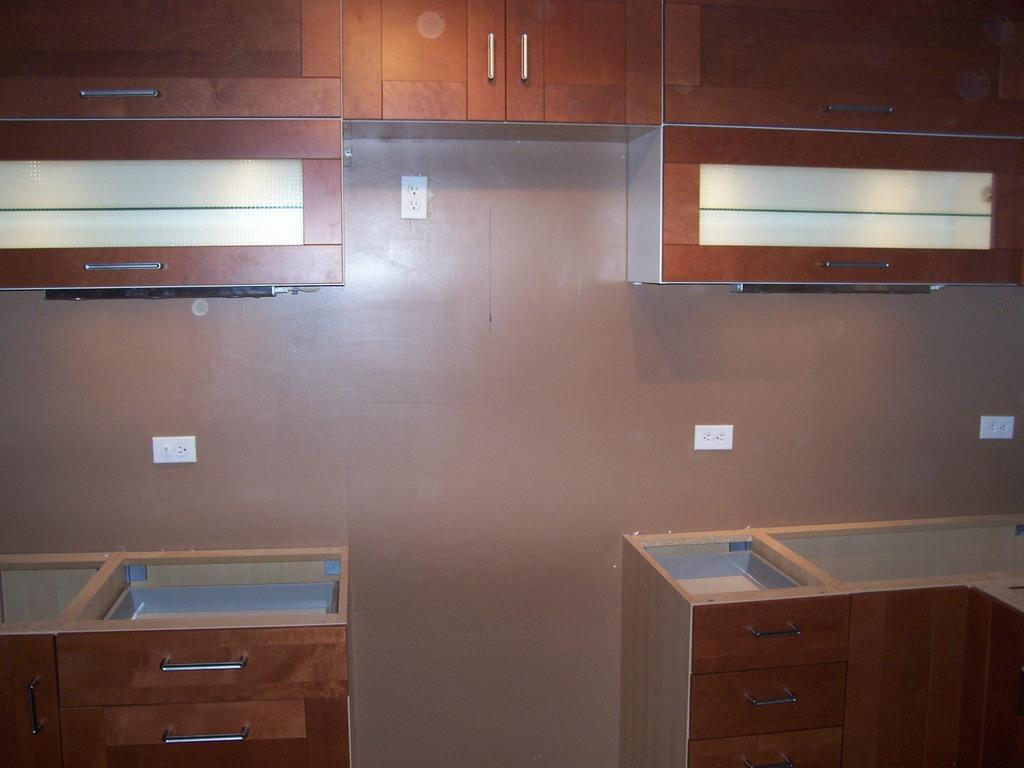cabinet_door: (665, 132, 1020, 286), (8, 122, 338, 274), (664, 12, 1016, 134), (2, 2, 332, 106), (56, 634, 350, 700), (62, 702, 344, 768), (348, 2, 502, 114), (508, 4, 662, 109), (700, 596, 849, 664), (696, 666, 847, 728), (1, 639, 63, 763)
handle: (78, 81, 162, 109), (819, 250, 897, 280), (159, 726, 251, 751), (824, 96, 894, 125), (158, 658, 252, 678), (748, 684, 801, 716), (15, 680, 44, 734), (84, 258, 166, 276), (754, 623, 798, 655), (514, 29, 536, 86), (482, 33, 502, 91)
